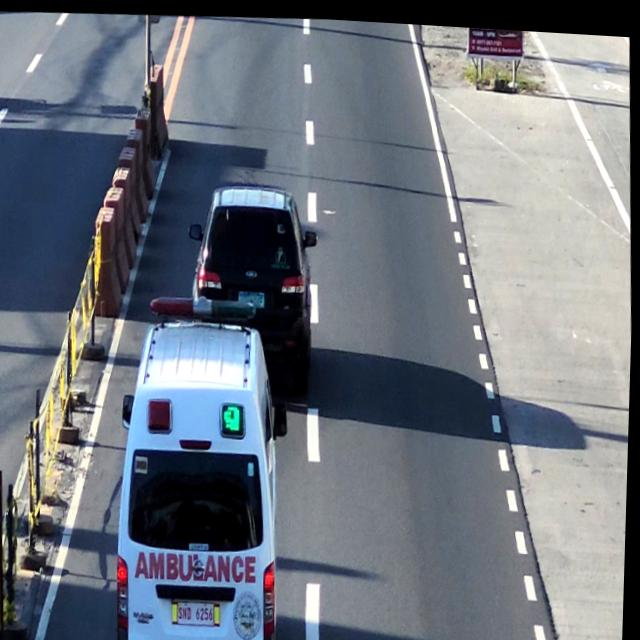Car: (110, 290, 290, 640), (190, 172, 317, 333)
License-Plate: (175, 593, 223, 628), (237, 283, 268, 306)
